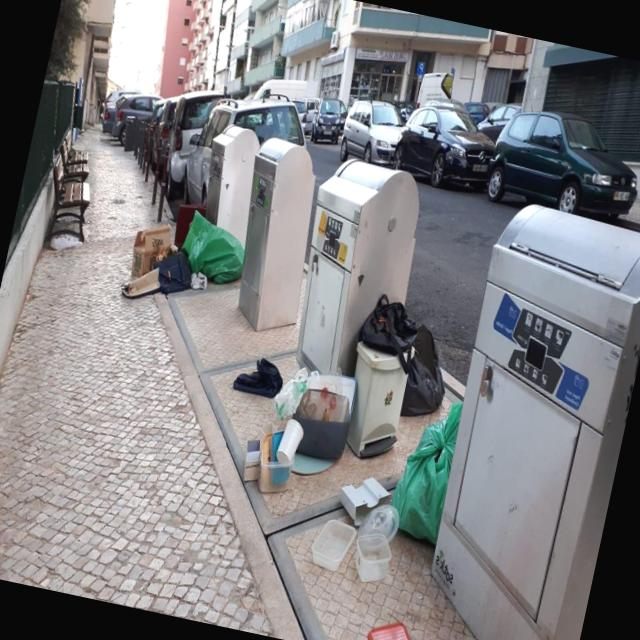garbage: (190, 262, 500, 604), (101, 190, 258, 324)
